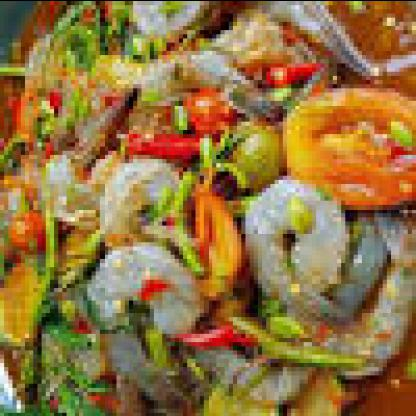Yum: (21, 8, 412, 412)
